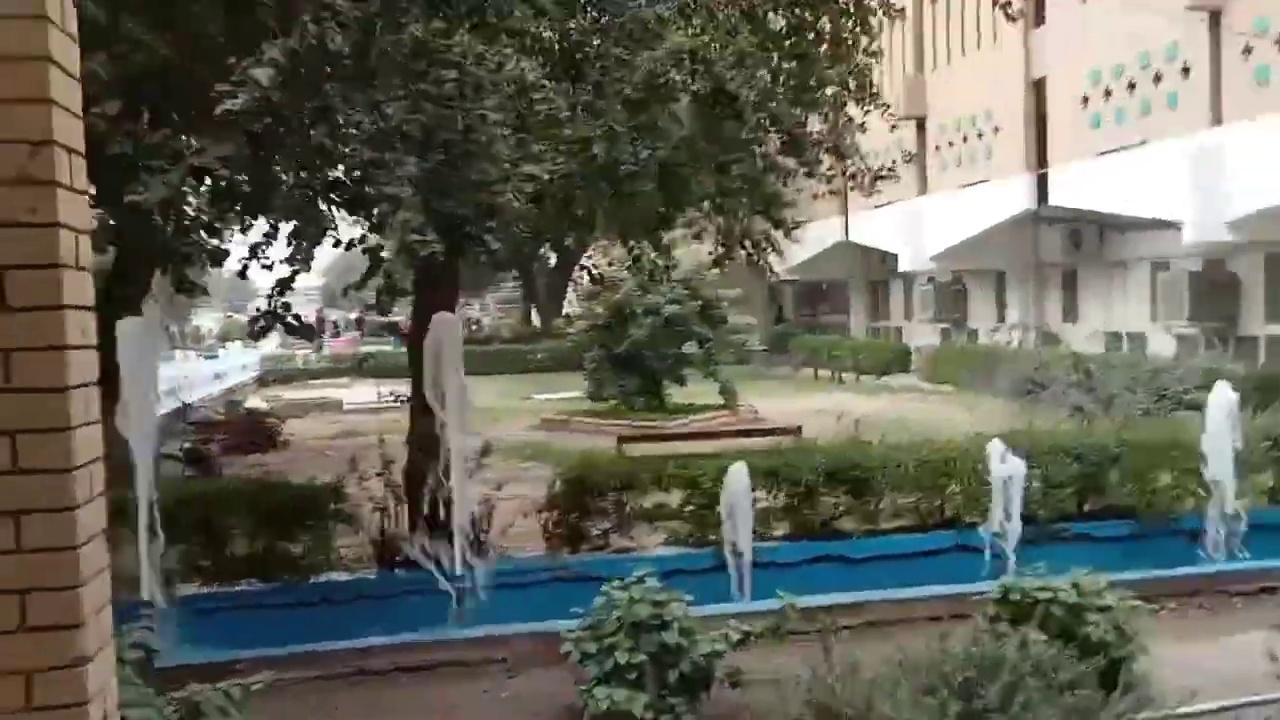fountain: (120, 507, 1277, 672), (1194, 377, 1251, 562), (976, 435, 1028, 567), (716, 458, 755, 602)
tree: (87, 0, 916, 431), (556, 566, 781, 718), (561, 237, 739, 412)
